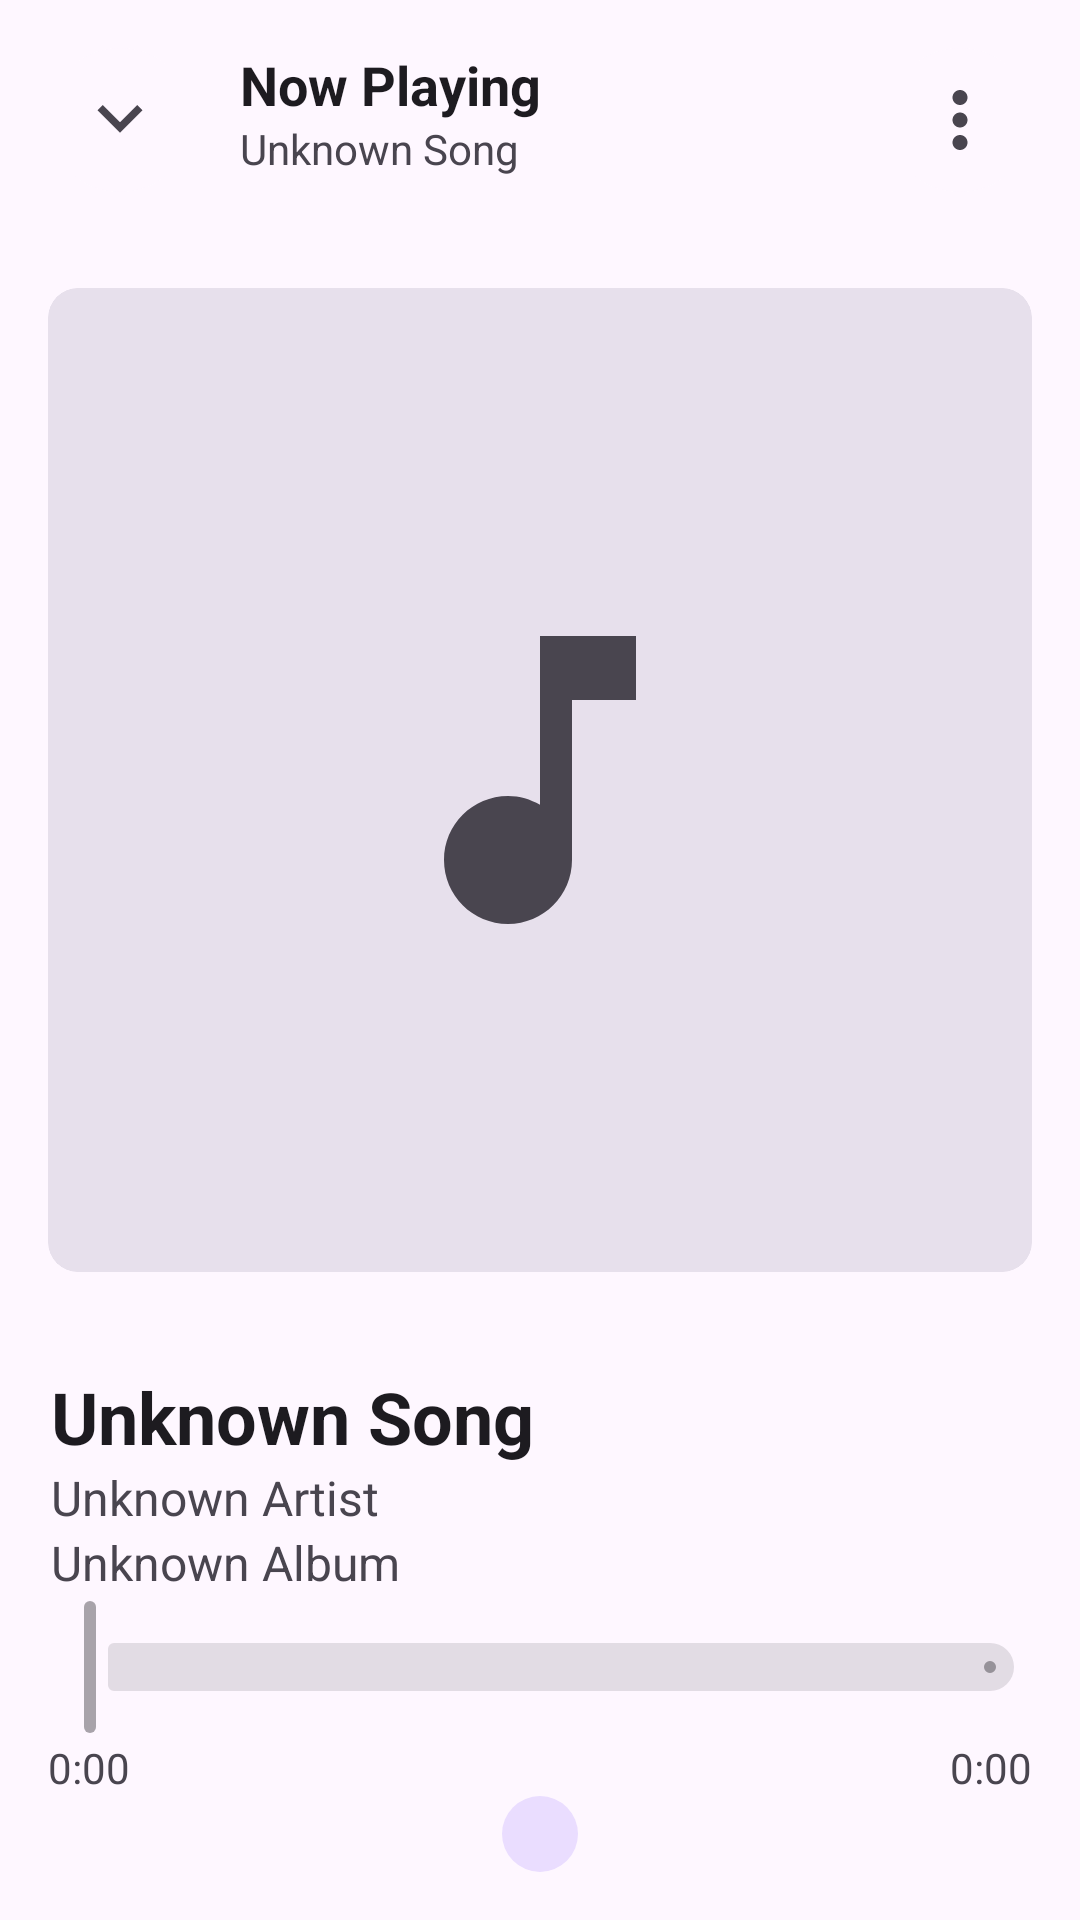

Point at icon controls on the screen. Image size 1080 × 1920, points as (x=x, y=y).
More: (x=960, y=120)
